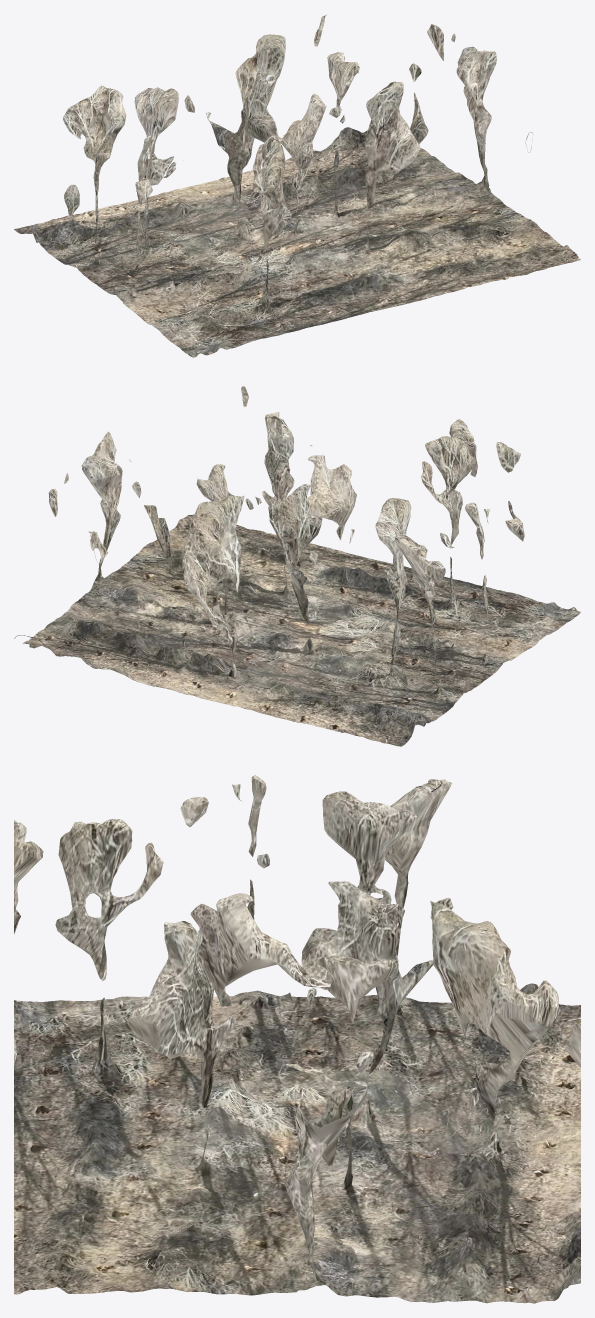
Rendered from Block_L21_716.glb.
3 views of the same model, one above another, from view 1: azimuth 30°, elevation 25°; view 2: azimuth 150°, elevation 25°; view 3: azimuth 270°, elevation 25° (orthographic). The views are drawn at different scales.
Parts seen in each view (by area): view 1: rtc; view 2: rtc; view 3: rtc.
Boxes of the visible parts, box(x1,y1,x2,y2) form: rtc: box(14, 14, 580, 357); rtc: box(14, 386, 580, 746); rtc: box(14, 775, 580, 1303).
Bounding box in the file's own units: 23.47 × 10.36 × 18.83.
5 materials, 5 textured.
